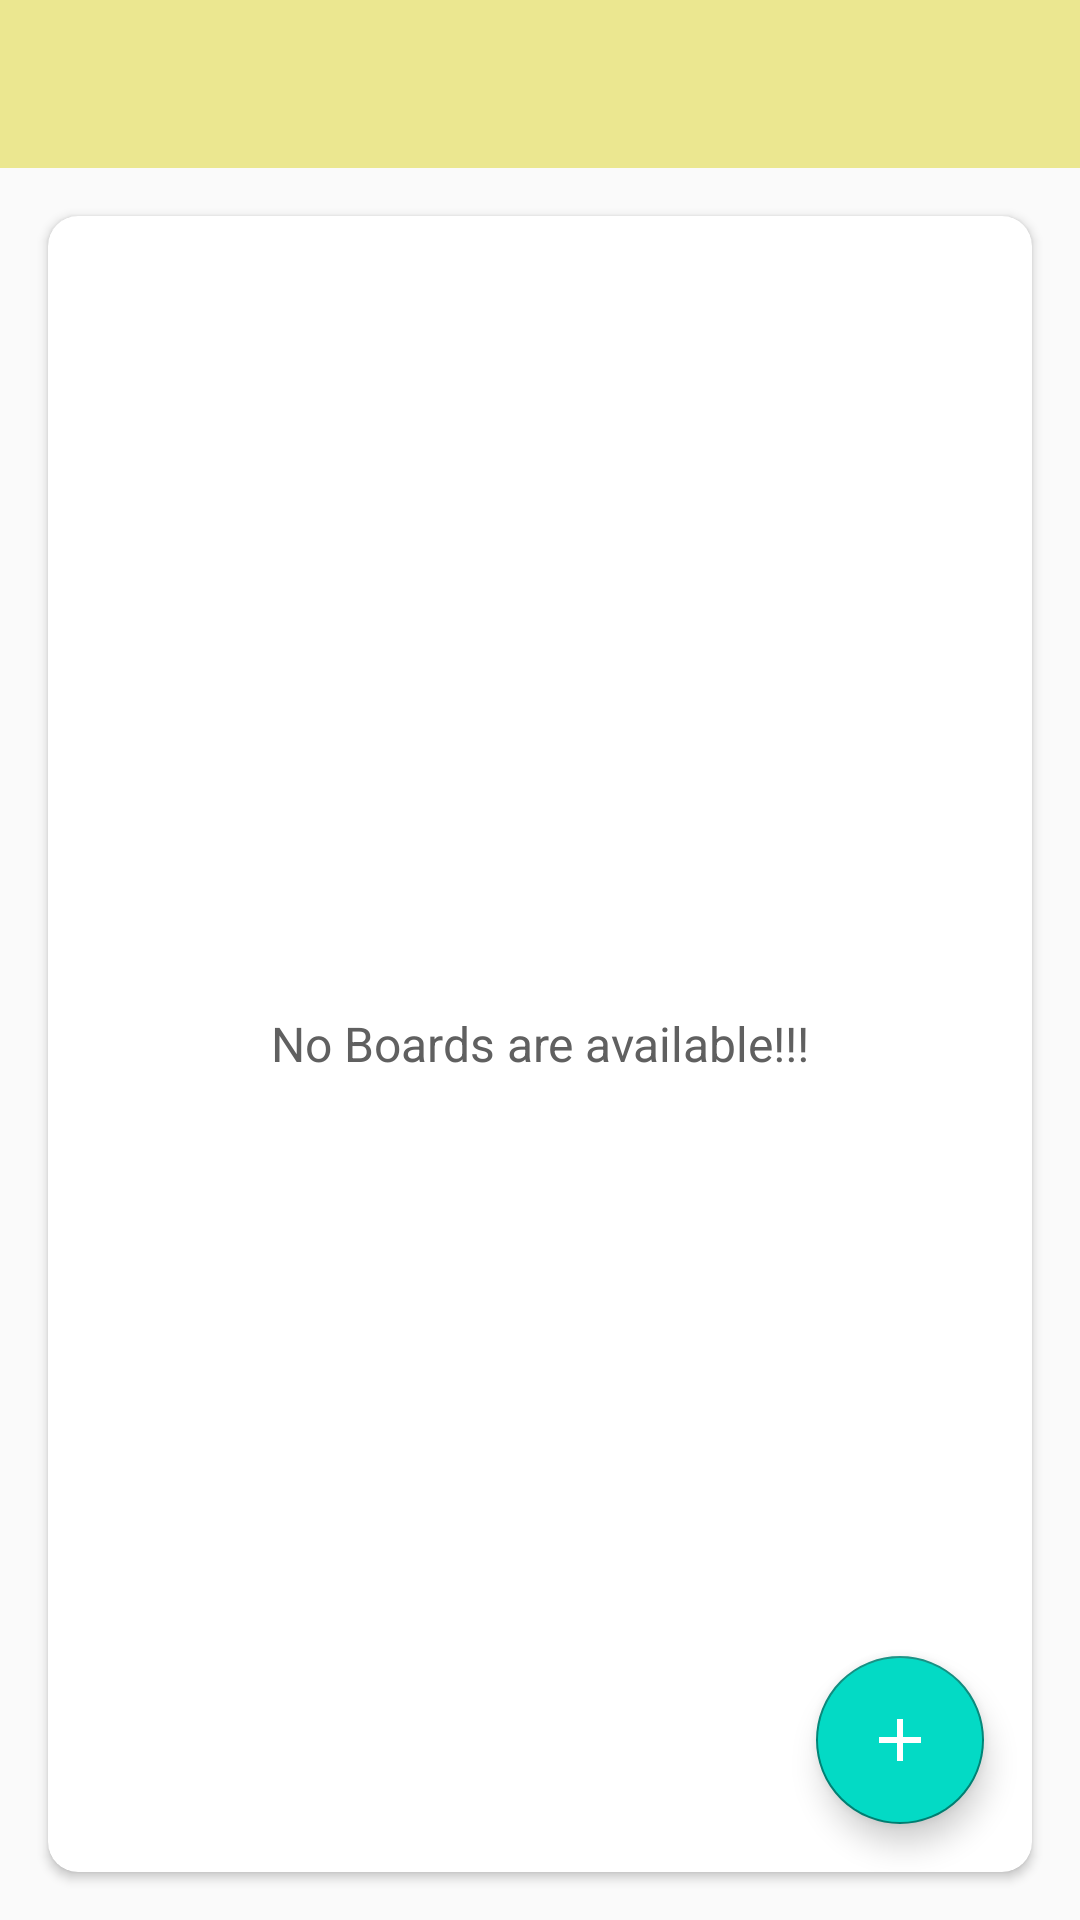

Named icons in this screenshot (1080px×1920px) and their centers, (x=x, y=y):
Add task button: (x=900, y=1740)
